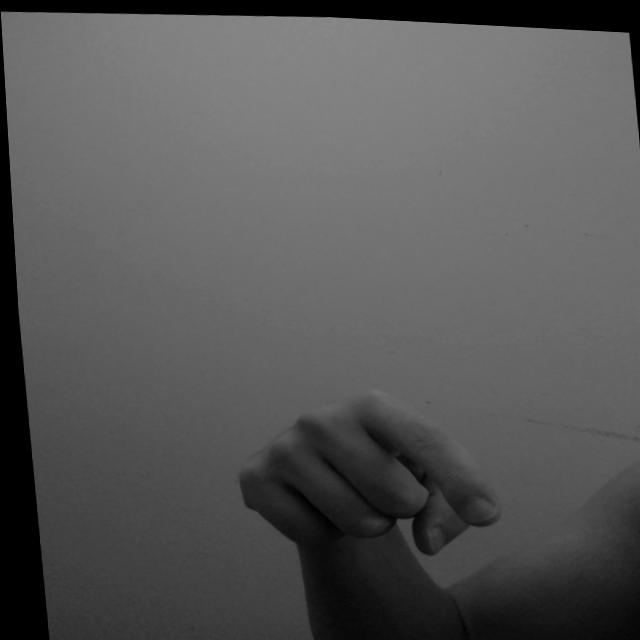Z: (216, 377, 507, 565)
